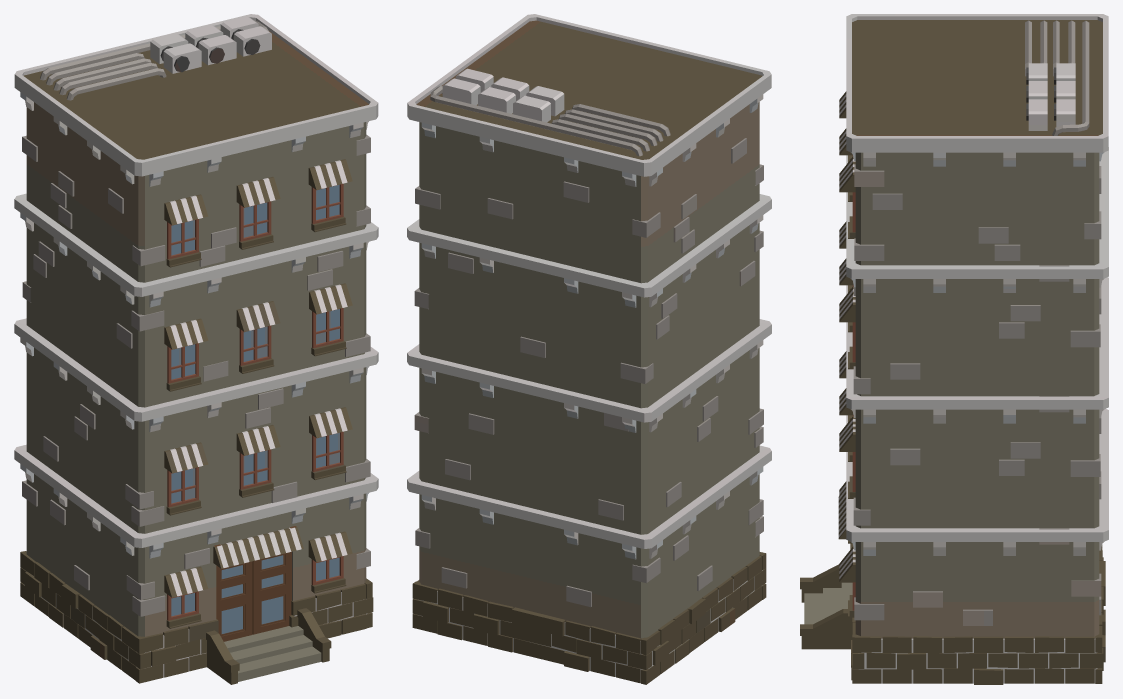
File: 4Story.glb
3 renders of one model, left to right at view 1: azimuth 30°, elevation 25°; view 2: azimuth 150°, elevation 25°; view 3: azimuth 270°, elevation 25°, orthographic. The views are drawn at different scales.
Parts seen in each view (by area): view 1: 4Story; view 2: 4Story; view 3: 4Story.
Part boxes in pixels (left/top/right/bottom): 4Story: left=14, top=14, right=378, bottom=684; 4Story: left=407, top=14, right=771, bottom=684; 4Story: left=800, top=14, right=1108, bottom=684.
Bounding box in the file's own units: 5.81 × 12.22 × 6.08.
Materials: 1 (1 with a texture image).
